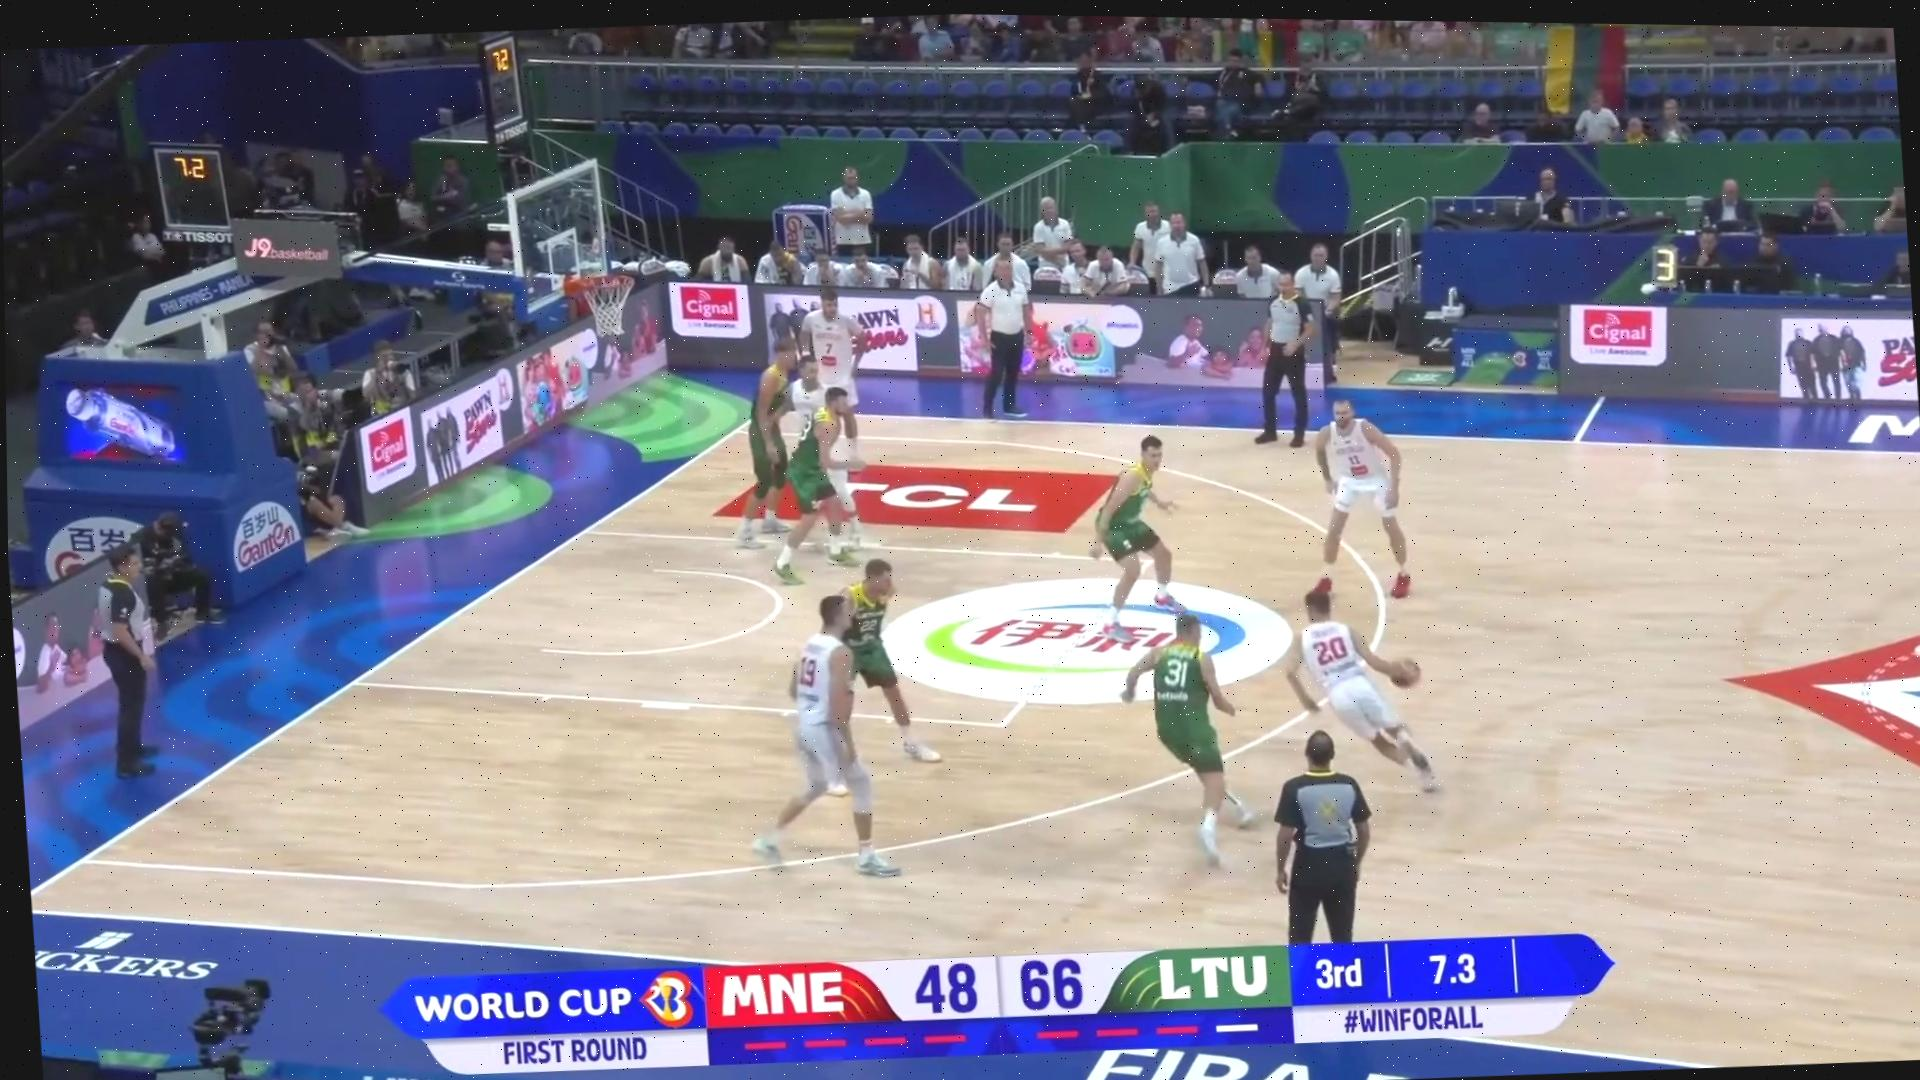no_foul: (1102, 566, 1459, 821)
